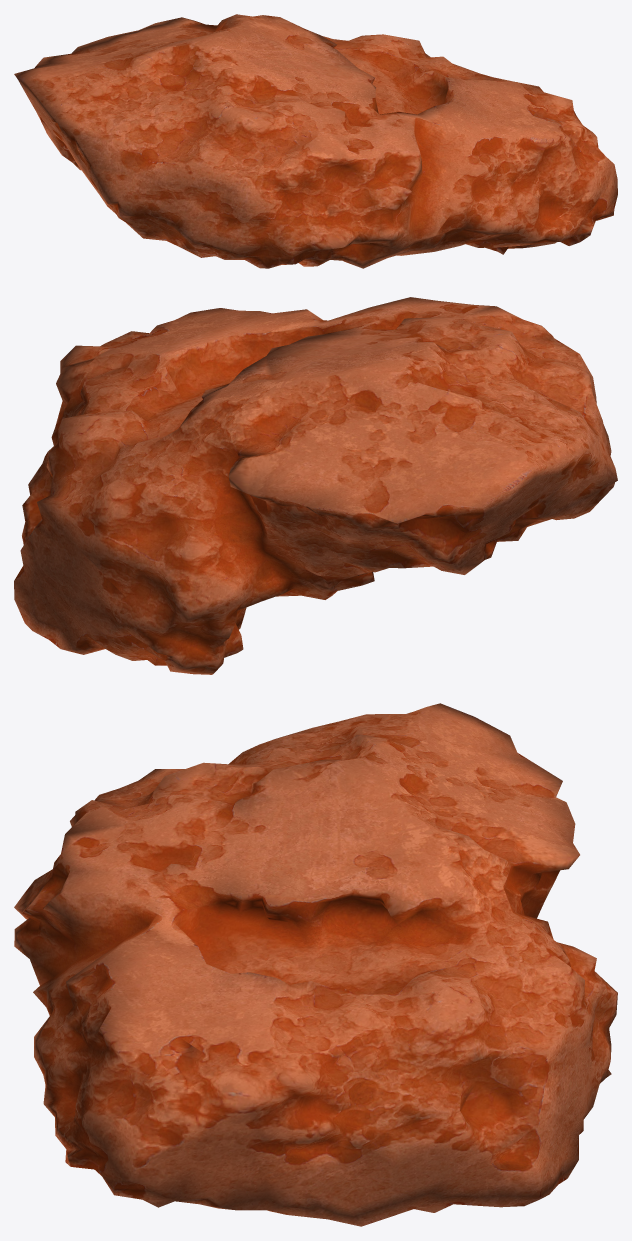
Rendered from eroded_desert_rock.glb.
3 renders of one model, top to bottom at view 1: azimuth 30°, elevation 25°; view 2: azimuth 150°, elevation 25°; view 3: azimuth 270°, elevation 25°, orthographic. The views are drawn at different scales.
Visible parts, largest first — view 1: rock3_low; view 2: rock3_low; view 3: rock3_low.
Boxes of the visible parts, box(x1,y1,x2,y2) form: rock3_low: box(14, 14, 617, 268); rock3_low: box(14, 297, 617, 674); rock3_low: box(14, 703, 617, 1226).
Bounding box in the file's own units: 536 × 245 × 455.
Materials: 1 (1 with a texture image).
